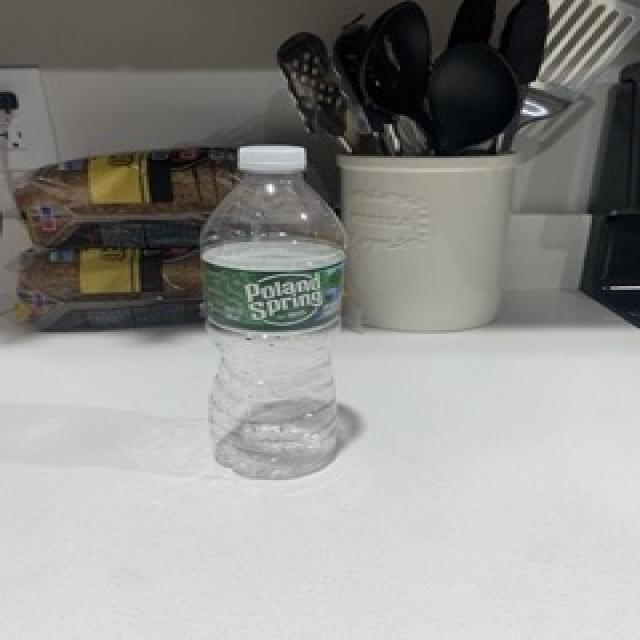water_bottle: (195, 144, 352, 484)
